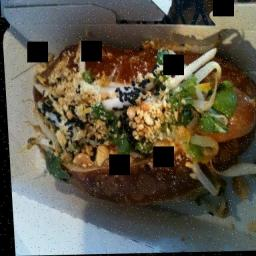hotdog: (198, 89, 256, 147)
